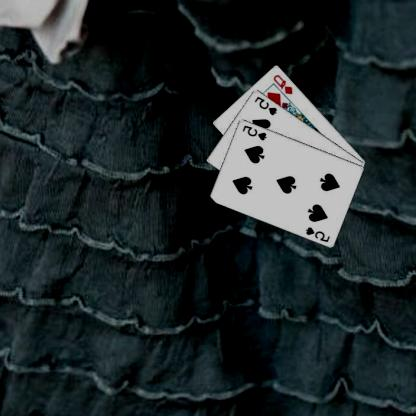5S: (254, 93, 280, 116), (242, 122, 270, 141), (305, 224, 333, 243)
QD: (272, 72, 296, 95)
